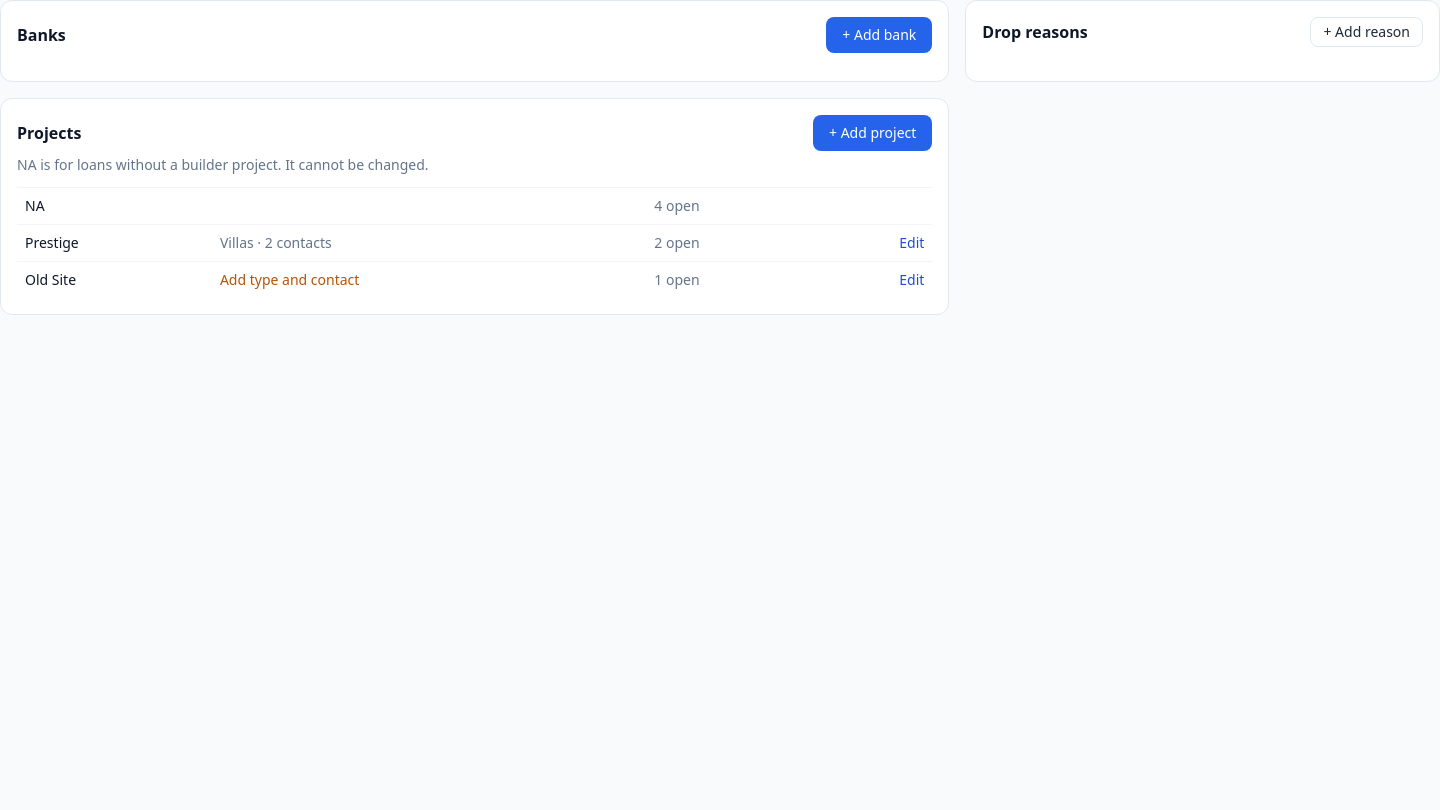
BanksAndLists projects › opens the project form from + Add project
This screenshot has width=1440, height=810.
Click the button "+ Add project". click: (873, 133)
box: [813, 115, 932, 151]
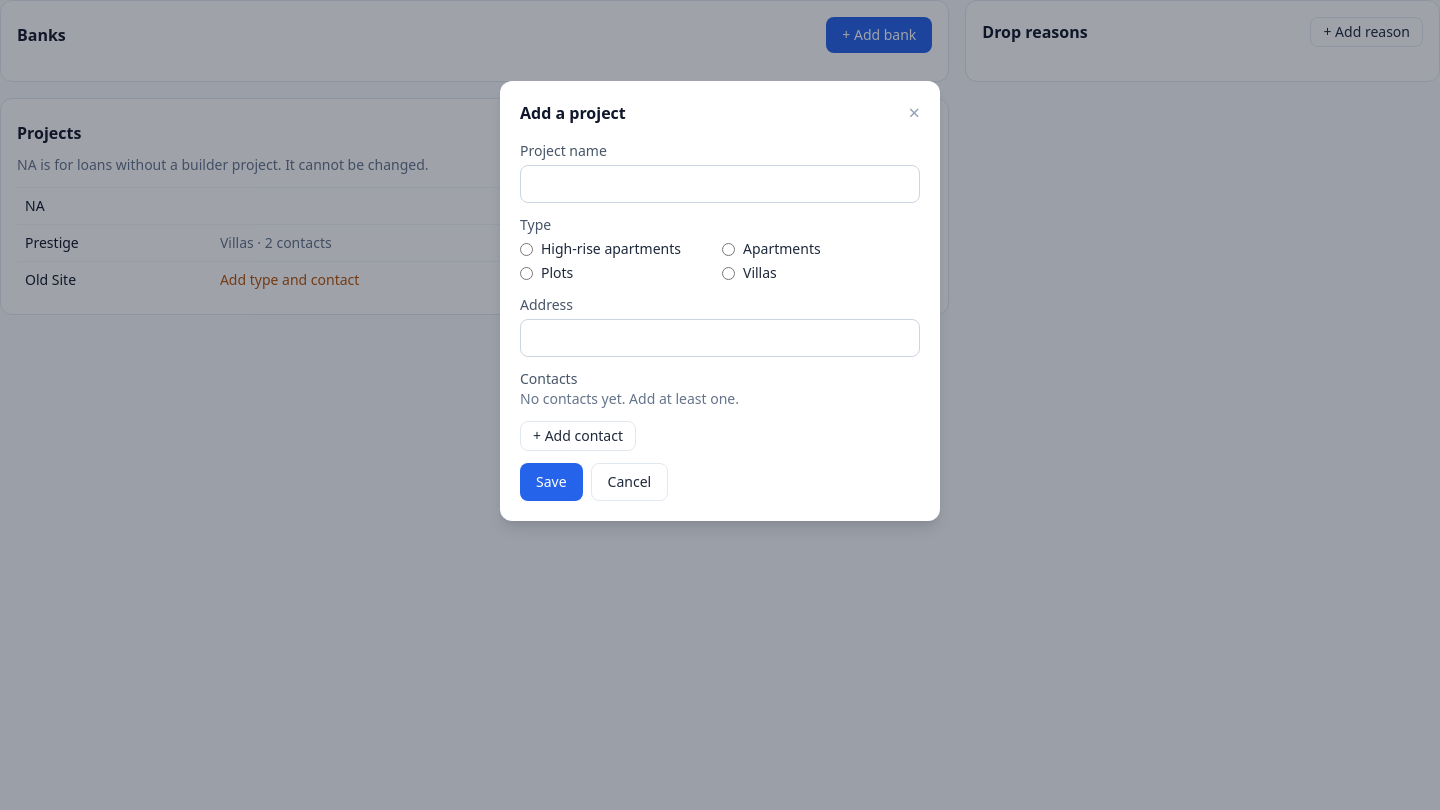
Check: the dialog "Add a project" is shown, box [500, 81, 940, 521]
Check: the element "Type" is shown, box [520, 215, 821, 282]
